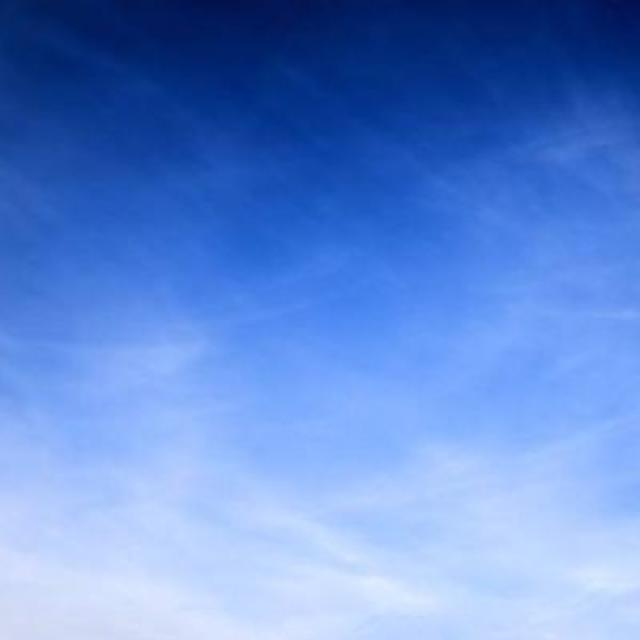Ci: (4, 63, 640, 560)
